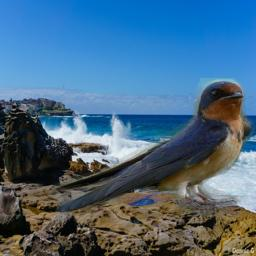Swallow: (17, 78, 255, 216)
